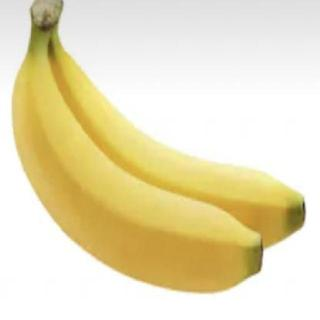banana: (10, 53, 266, 295), (38, 48, 308, 266)
